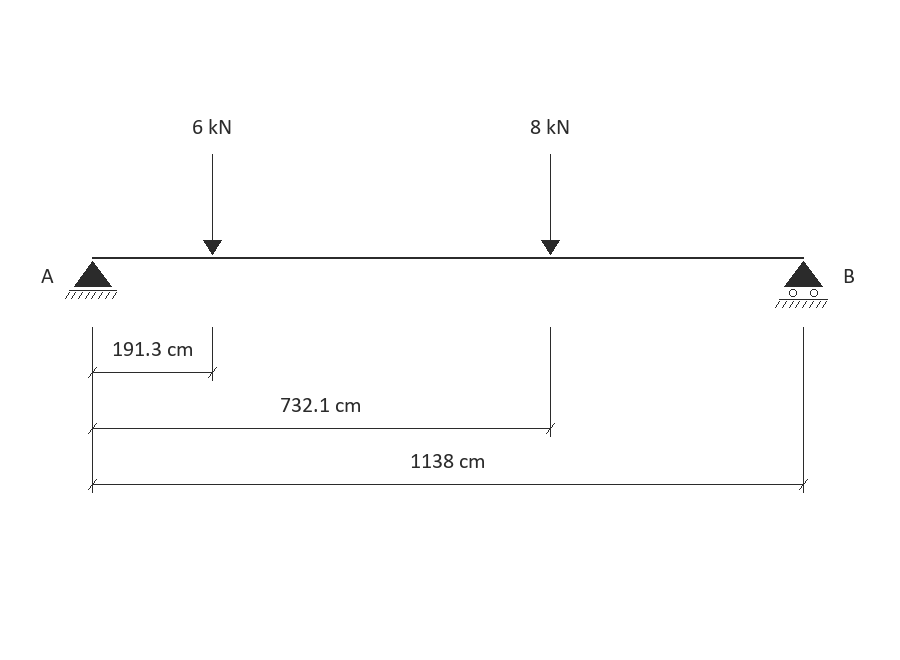pin_support: (65, 261, 117, 299)
point_load: (203, 154, 222, 255), (541, 154, 560, 255)
roller_support: (775, 261, 828, 308)
